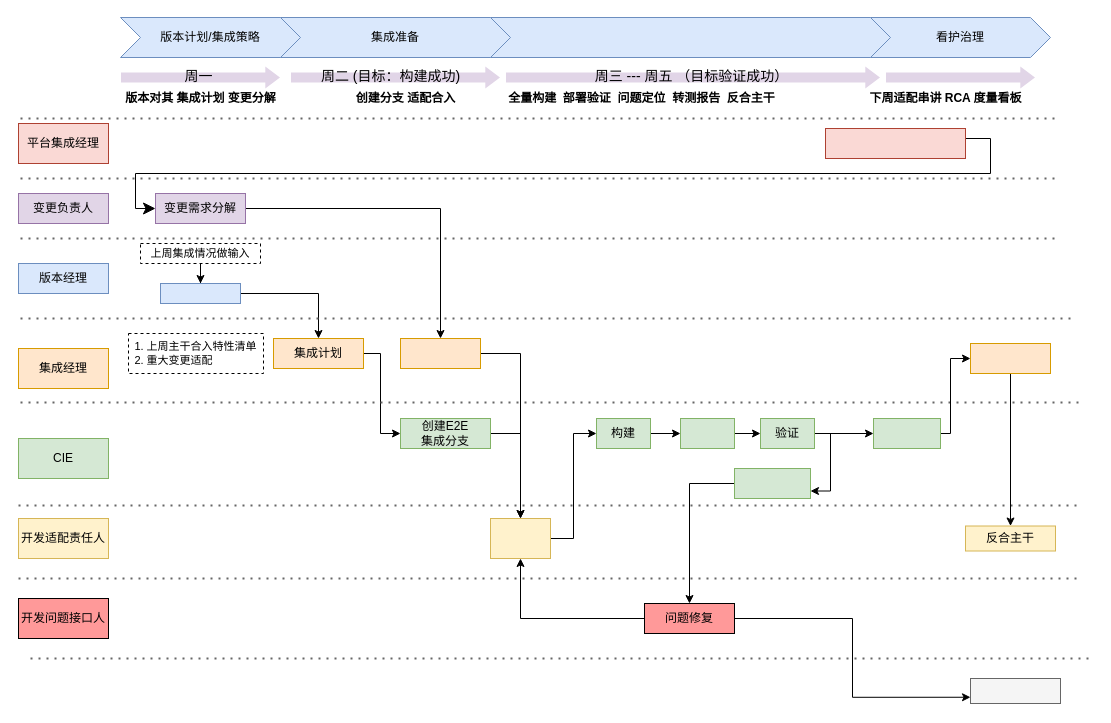
The diagram is 1111 pixels wide and 723 high, and some of its shapes have lost their labels. Each missing label, with the centre of its shape:
"RCA 分析流程" goes at pixel 1015 691.
"合入适配代码" goes at pixel 520 538.
"版本对齐" goes at pixel 200 293.
"组织临时变更说明会" goes at pixel 895 143.
"组织反合主干" goes at pixel 1010 358.
"组织适配合入" goes at pixel 440 353.
"部署" goes at pixel 707 433.
"问题分发" goes at pixel 772 483.
"集成执行" goes at pixel 690 37.
"验证报告" goes at pixel 906 433.
